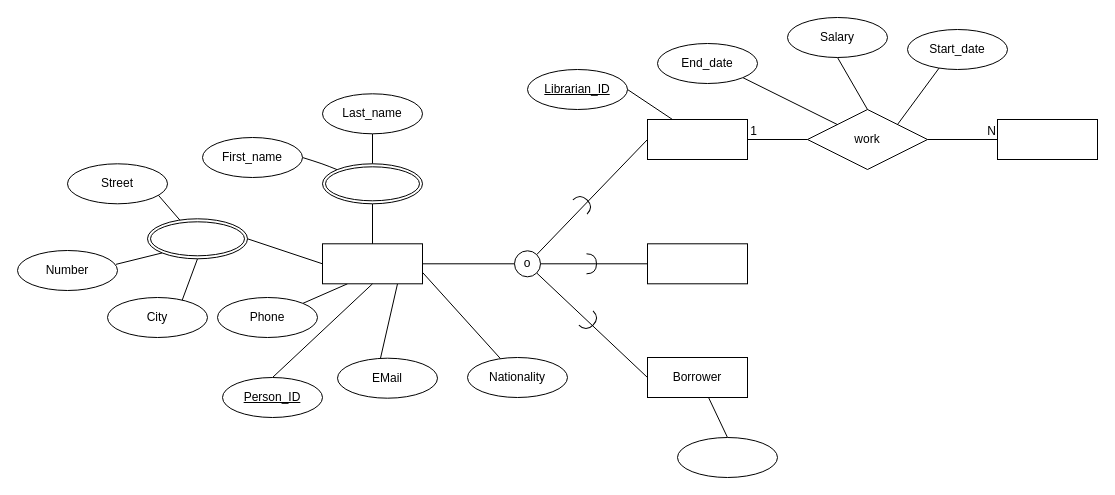
Image size: 1115x495. Some labels were removed from this diagram. Each missing label, with the centre of its shape:
Address: point (197, 238)
Author: point (697, 263)
Borrower_ID: point (727, 457)
Librarian: point (697, 139)
Library_Branch: point (1047, 139)
Name: point (372, 183)
Person: point (372, 263)
